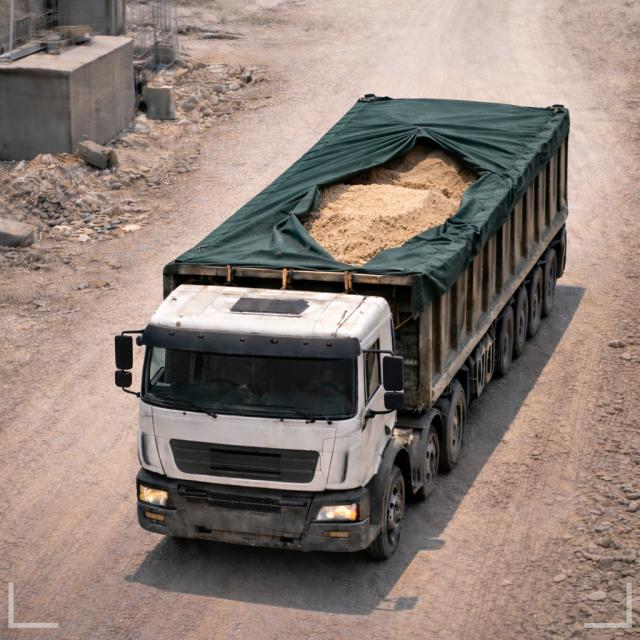Box: (171, 94, 561, 269)
Truck: (112, 92, 573, 565)
